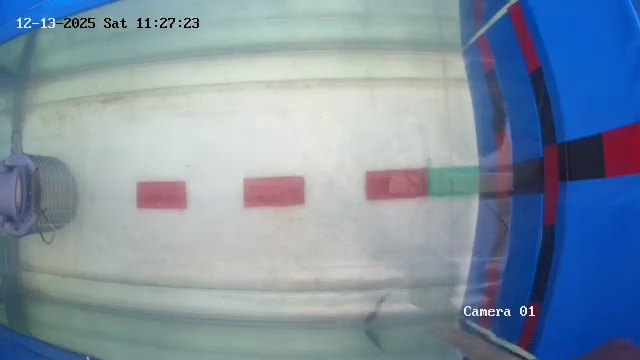fish: (303, 309, 340, 329)
